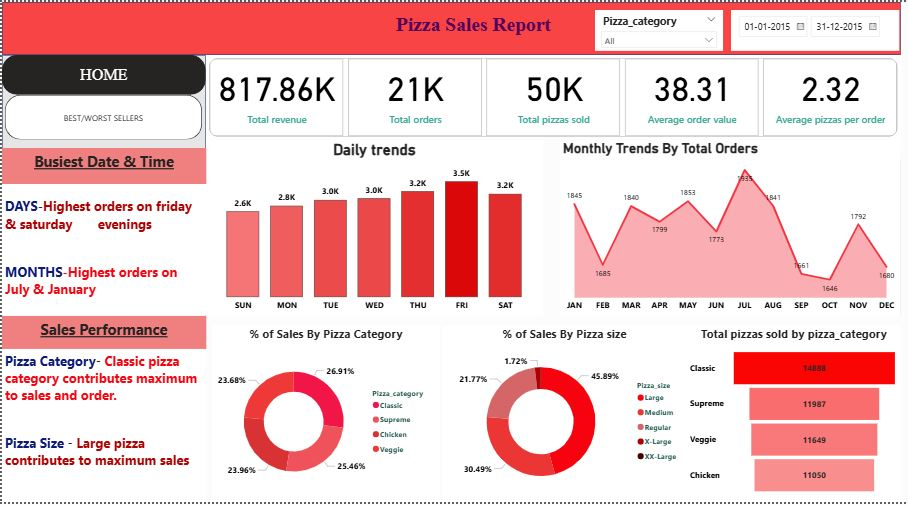

The dashboard page shown, as its layout file describes it:
{"tool":"powerbi","page":{"name":"HOME","canvas":[1500,820],"ordinal":0},"visuals":[{"type":"cardVisual","fields":{"Data":["pizza_sales.Total revenue","pizza_sales.Total orders","pizza_sales.Total pizzas sold","pizza_sales.average order value","pizza_sales.Average pizzas per order"]},"box":[334.6,86.9,1139.8,139.4],"z":0},{"type":"shape","title":"pizza sales","box":[0,0,1474.4,86.9],"z":1000},{"type":"shape","box":[347.7,226.3,539.6,288.6],"z":2000},{"type":"columnChart","title":"Daily trends","fields":{"Y":["pizza_sales.Total orders"],"Category":["pizza_sales.Order day"]},"box":[334.6,226.3,552.7,288.6],"z":3000},{"type":"textbox","box":[631.4,13.1,283.7,54.1],"z":4000},{"type":"shape","box":[915.1,226.3,559.2,288.6],"z":5000},{"type":"areaChart","title":"Monthly Trends By Total Orders","fields":{"Category":["pizza_sales.Order month"],"Y":["pizza_sales.Total orders"]},"box":[915.1,226.3,559.2,288.6],"z":6000},{"type":"shape","box":[721.6,531.4,401.8,288.6],"z":7000},{"type":"shape","box":[344.4,531.4,373.9,288.6],"z":8000},{"type":"shape","box":[1123.4,531.4,351,288.6],"z":9000},{"type":"donutChart","title":"% of Sales By Pizza Category","fields":{"Category":["pizza_sales.pizza_category"],"Y":["pizza_sales.Total revenue"]},"box":[344.4,531.4,373.9,288.6],"z":10000},{"type":"donutChart","title":"% of Sales By Pizza size","fields":{"Category":["pizza_sales.pizza_size"],"Y":["pizza_sales.Total revenue"]},"box":[721.6,531.4,401.8,288.6],"z":11000},{"type":"funnel","fields":{"Category":["pizza_sales.pizza_category"],"Y":["pizza_sales.Total pizzas sold"]},"box":[1123.4,531.4,351,288.6],"z":12000},{"type":"shape","box":[0,86.9,334.6,733.1],"z":13000},{"type":"textbox","box":[0,239.4,334.6,59],"z":14000},{"type":"slicer","fields":{"Values":["pizza_sales.pizza_category"]},"box":[972.5,13.1,209.9,67.2],"z":15000},{"type":"slicer","fields":{"Values":["pizza_sales.order_date"]},"box":[1195.6,13.1,275.5,67.2],"z":16000},{"type":"textbox","box":[0,515,334.6,54.1],"z":17000},{"type":"textbox","box":[0,298.5,334.6,216.5],"z":18000},{"type":"textbox","box":[0,569.1,334.6,250.9],"z":19000},{"type":"pageNavigator","box":[4.9,152.5,323.1,73.8],"z":20000},{"type":"pageNavigator","box":[0,86.9,334.6,65.6],"z":21000}]}

Visuals, with their boxes in screenshot pixels (x1, y1, x2, y2), scaled from the page's 1500x820 canvas onto the 908x506 screenshot:
cardVisual - pizza_sales.Total revenue x pizza_sales.Total orders: [203, 54, 893, 140]
"pizza sales" shape: [0, 0, 893, 54]
shape: [210, 140, 537, 318]
"Daily trends" columnChart: [203, 140, 537, 318]
textbox: [382, 8, 554, 41]
shape: [554, 140, 892, 318]
"Monthly Trends By Total Orders" areaChart: [554, 140, 892, 318]
shape: [437, 328, 680, 505]
shape: [208, 328, 435, 505]
shape: [680, 328, 893, 505]
"% of Sales By Pizza Category" donutChart: [208, 328, 435, 505]
"% of Sales By Pizza size" donutChart: [437, 328, 680, 505]
funnel - pizza_sales.pizza_category x pizza_sales.Total pizzas sold: [680, 328, 893, 505]
shape: [0, 54, 203, 505]
textbox: [0, 148, 203, 184]
slicer - pizza_sales.pizza_category: [589, 8, 716, 50]
slicer - pizza_sales.order_date: [724, 8, 891, 50]
textbox: [0, 318, 203, 351]
textbox: [0, 184, 203, 318]
textbox: [0, 351, 203, 505]
pageNavigator: [3, 94, 199, 140]
pageNavigator: [0, 54, 203, 94]
